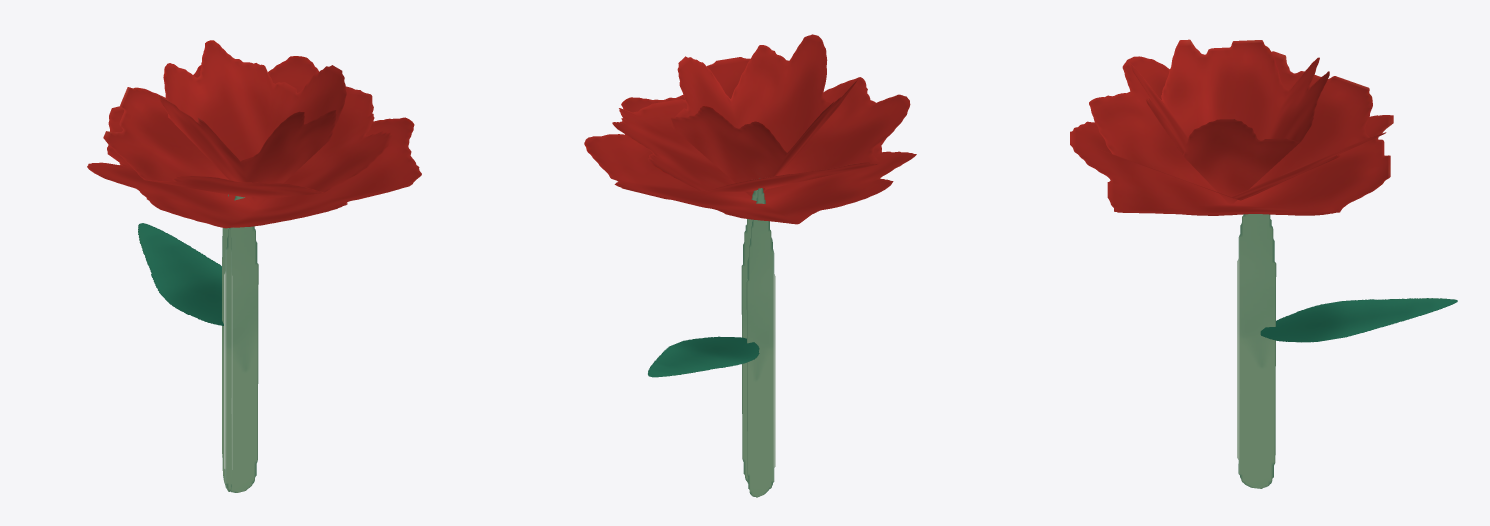
The model's file is Rose_r.fbx.
The picture shows the model from 3 angles, left to right: view 1: azimuth 30°, elevation 25°; view 2: azimuth 150°, elevation 25°; view 3: azimuth 270°, elevation 25°; orthographic projection. The views are drawn at different scales.
Parts seen in each view (by area): view 1: polySurface402; view 2: polySurface402; view 3: polySurface402.
Boxes of the visible parts, x1,y1,x2,y2 form: polySurface402: [87, 40, 421, 492]; polySurface402: [584, 34, 916, 497]; polySurface402: [1070, 39, 1457, 488].
Bounding box in the file's own units: 0.2333 × 0.2523 × 0.2414.
